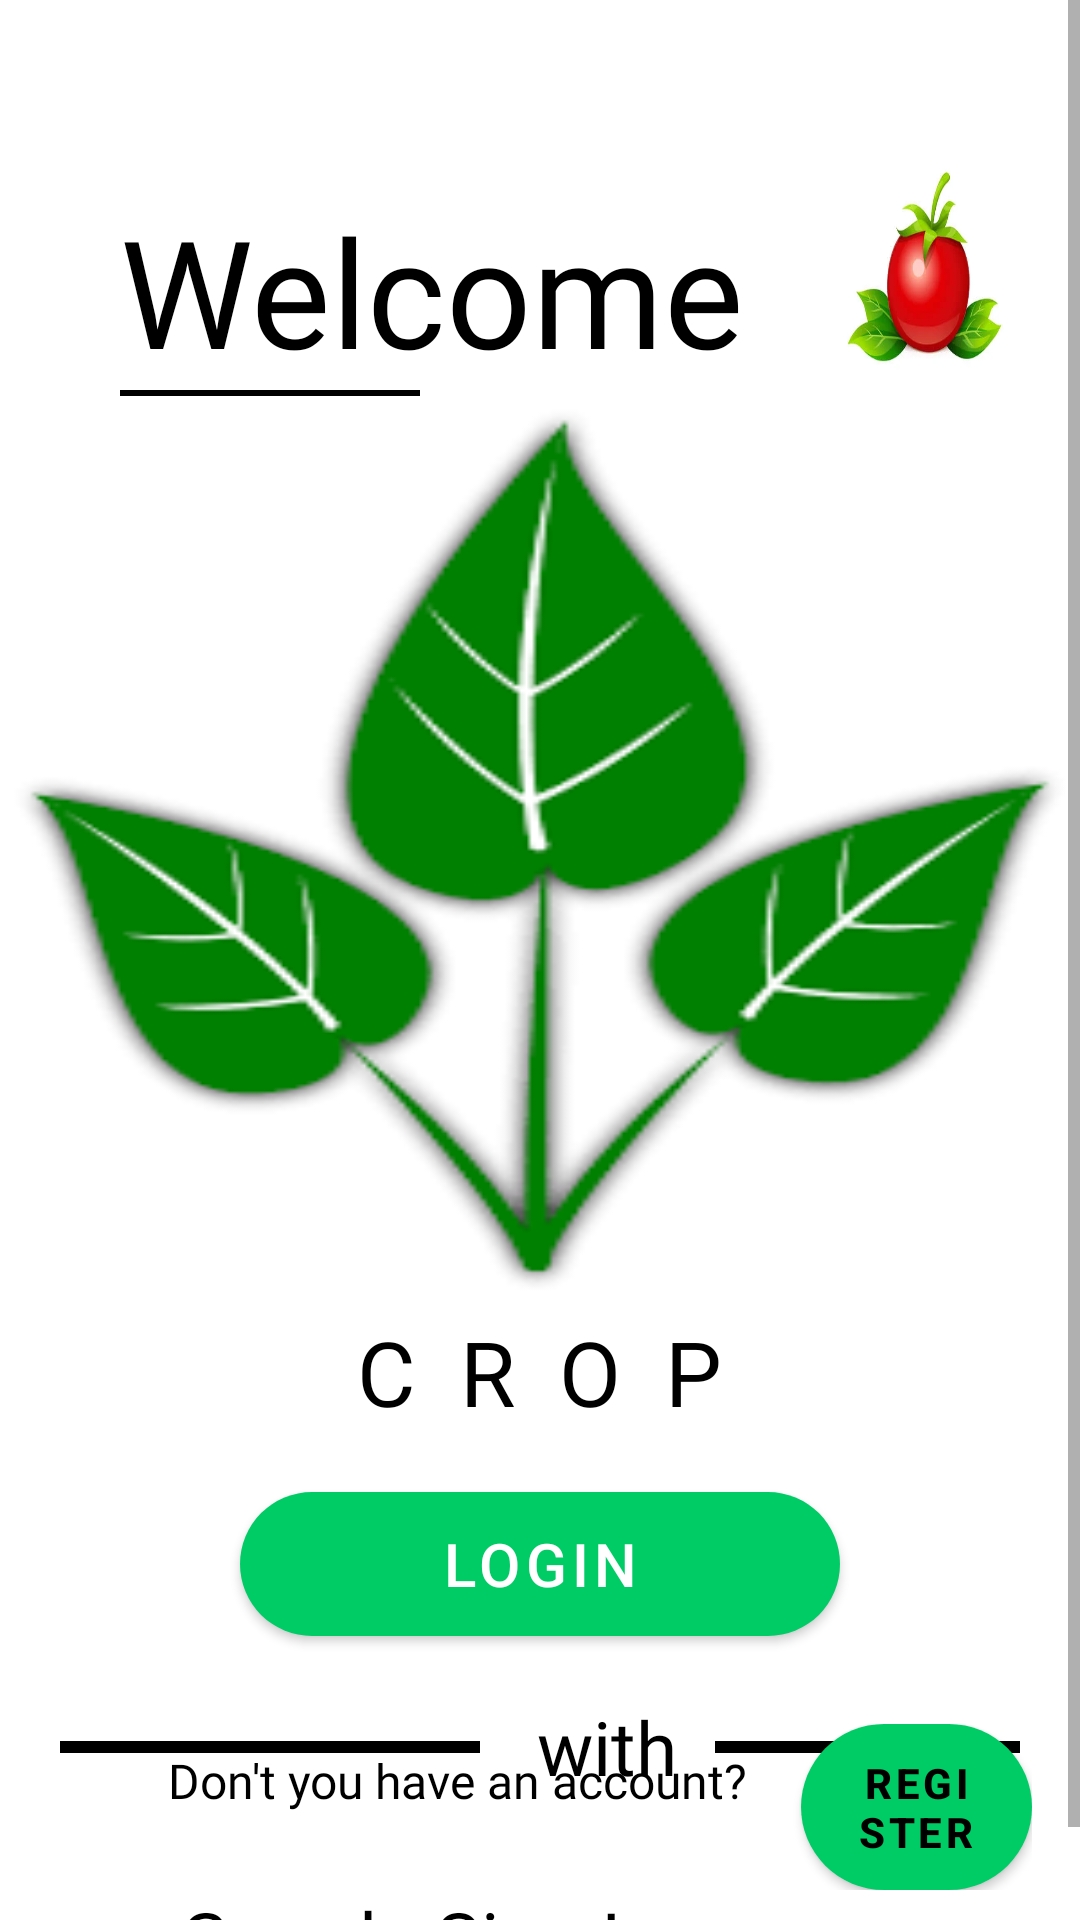

Locate icon controls on the screen. Image size 1080px×1920px, boxes as Rect(x1, y1, x2, y2).
tomato: Rect(847, 171, 1002, 362)
